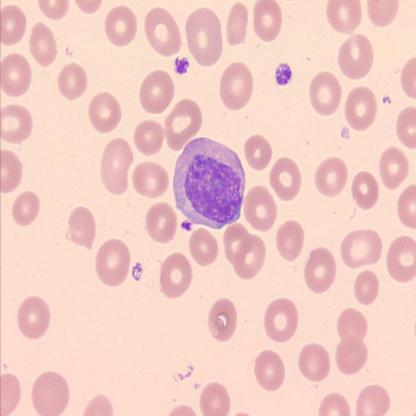Myelocyte: (173, 139, 246, 226)
